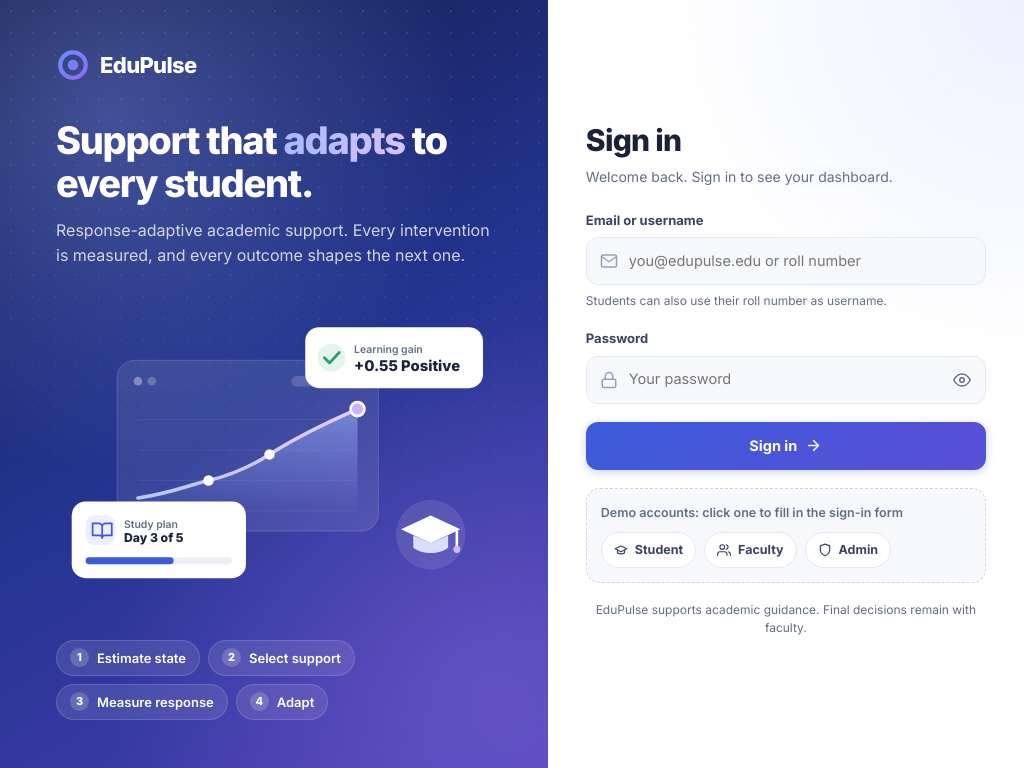
Test: Login screen (Screen 1) › shows the server error for wrong credentials
The width and height of the screenshot is (1024, 768).
In the field labelled "Email or username": (786, 261) top-left (586, 237), bottom-right (986, 285), type "student1@edupulse.edu"
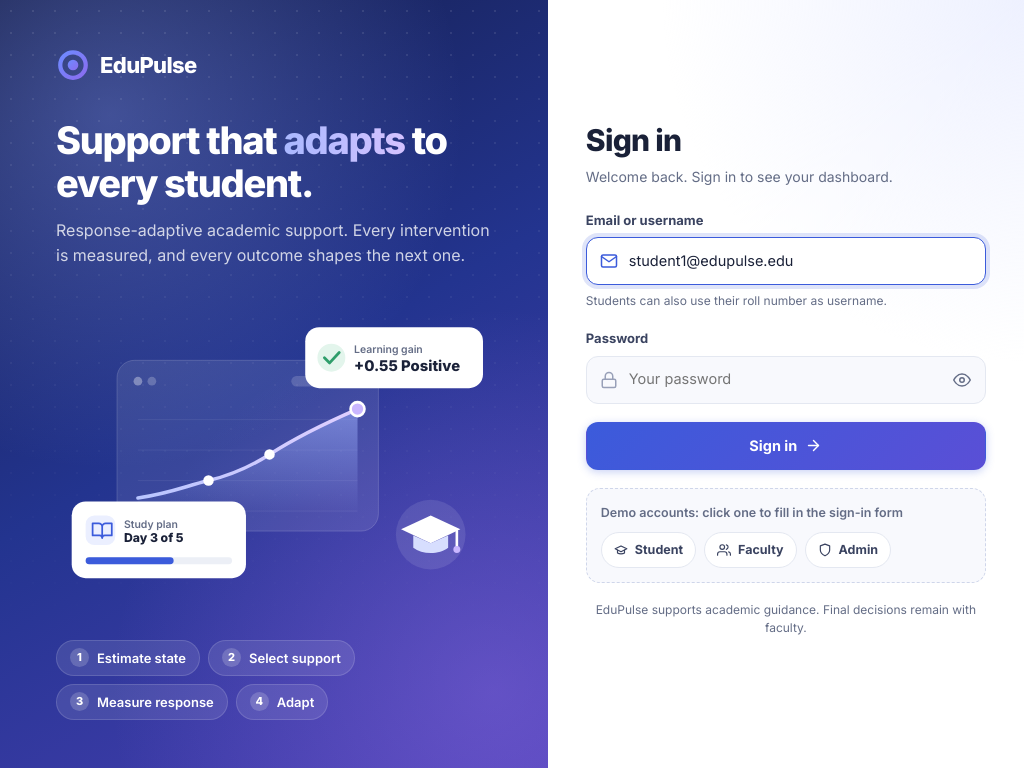
In the password field labelled "Password": (786, 380) top-left (586, 356), bottom-right (986, 404), type "wrong"
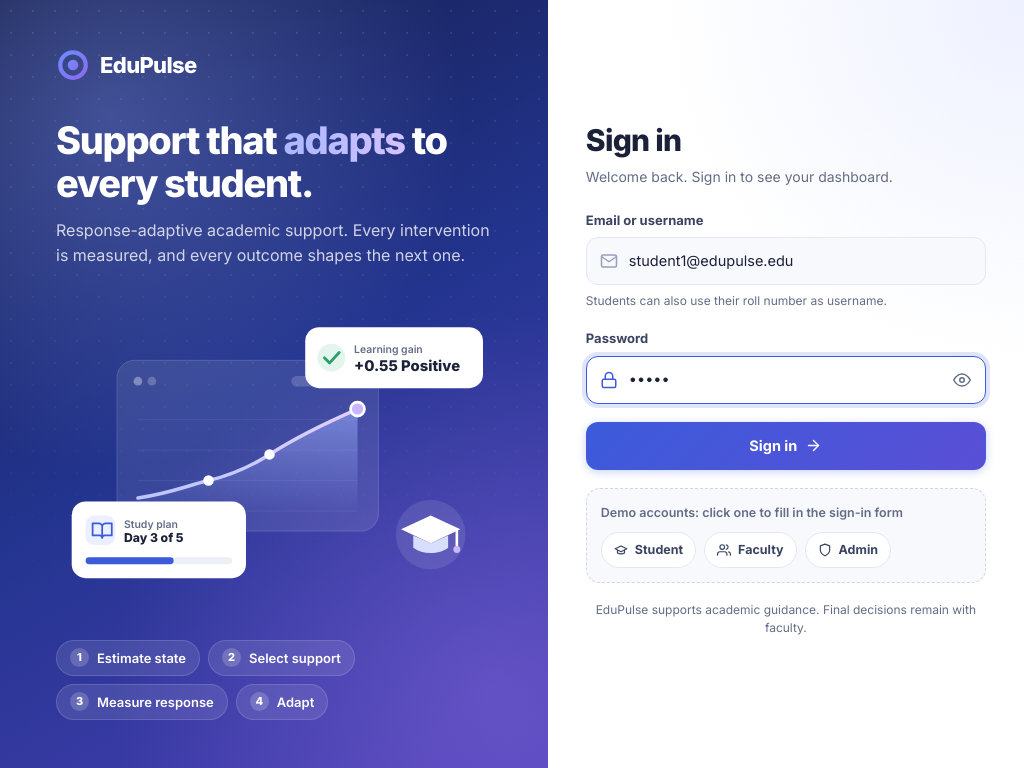
Click the button "Sign in": (786, 446) top-left (586, 422), bottom-right (986, 470)
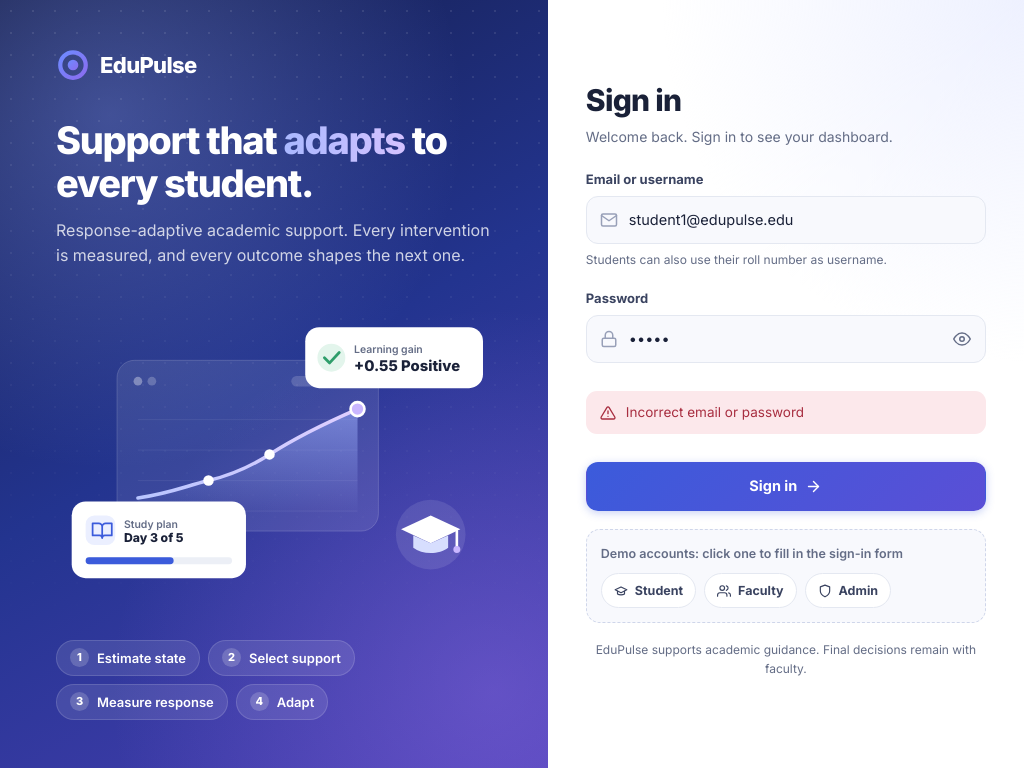
Expected: the message reads "Incorrect email or password", top-left (626, 404), bottom-right (804, 420)
